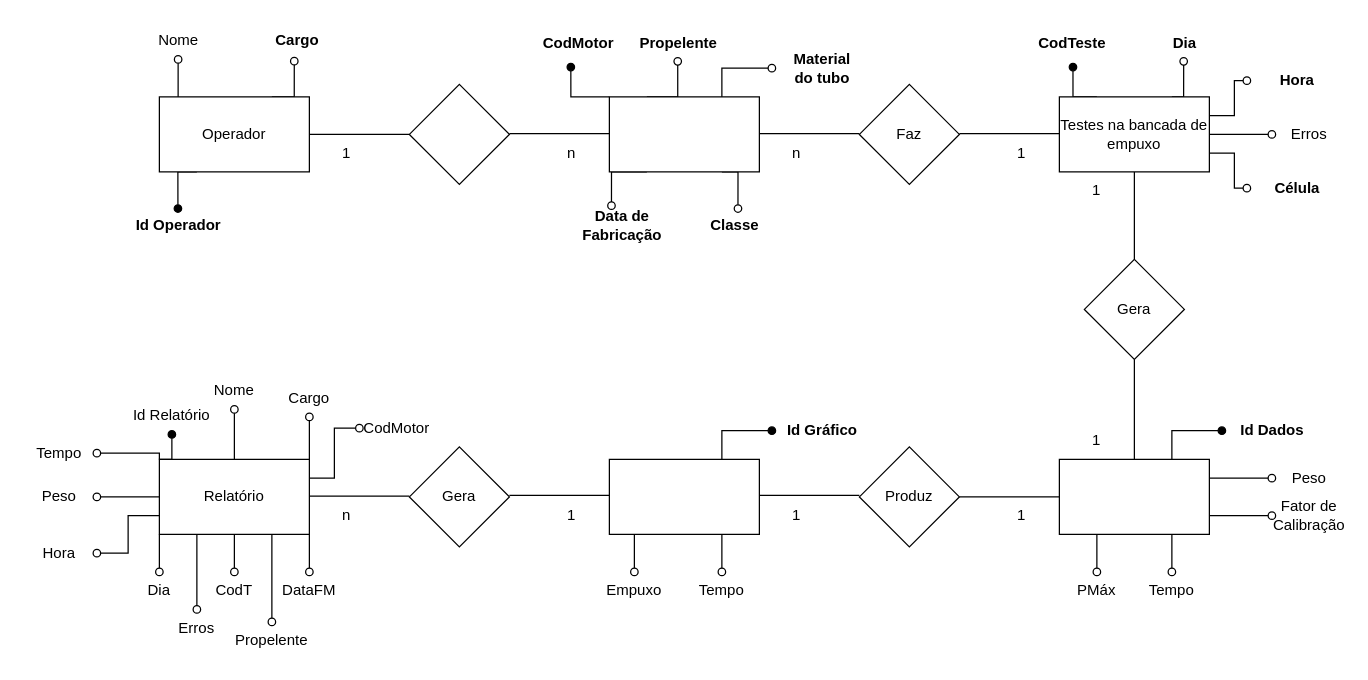
The diagram is 1368 pixels wide and 680 high, and some of its shapes have lost their labels. Each missing label, with the centre of its shape:
"Dados" goes at pixel 1133 496.
"Gráfico" goes at pixel 683 496.
"Motor" goes at pixel 683 134.
"Pega" goes at pixel 458 133.
